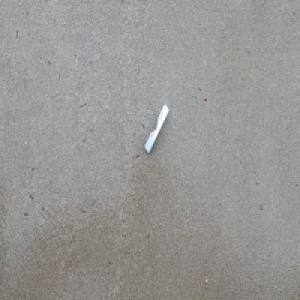ClampPart: (143, 103, 170, 155)
